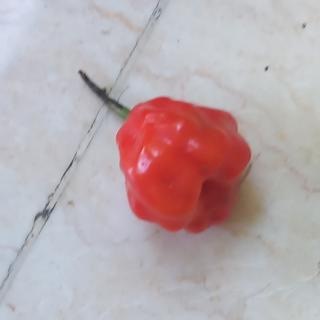Grade-B: (111, 89, 255, 239)
